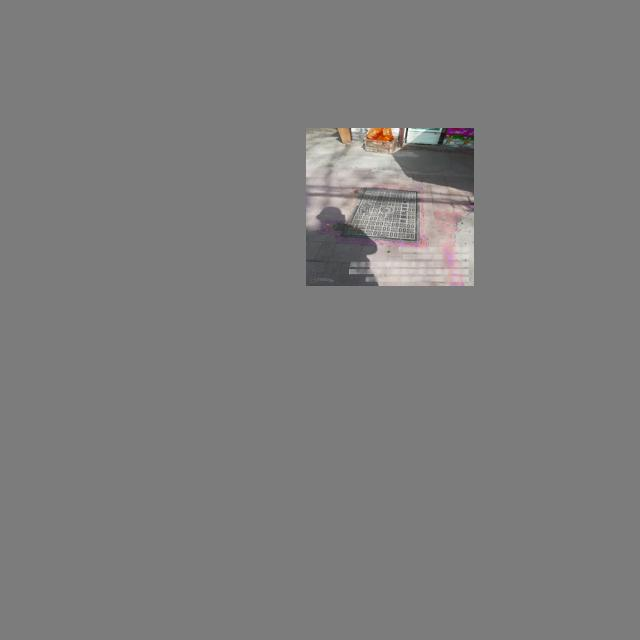good: (332, 186, 420, 243)
